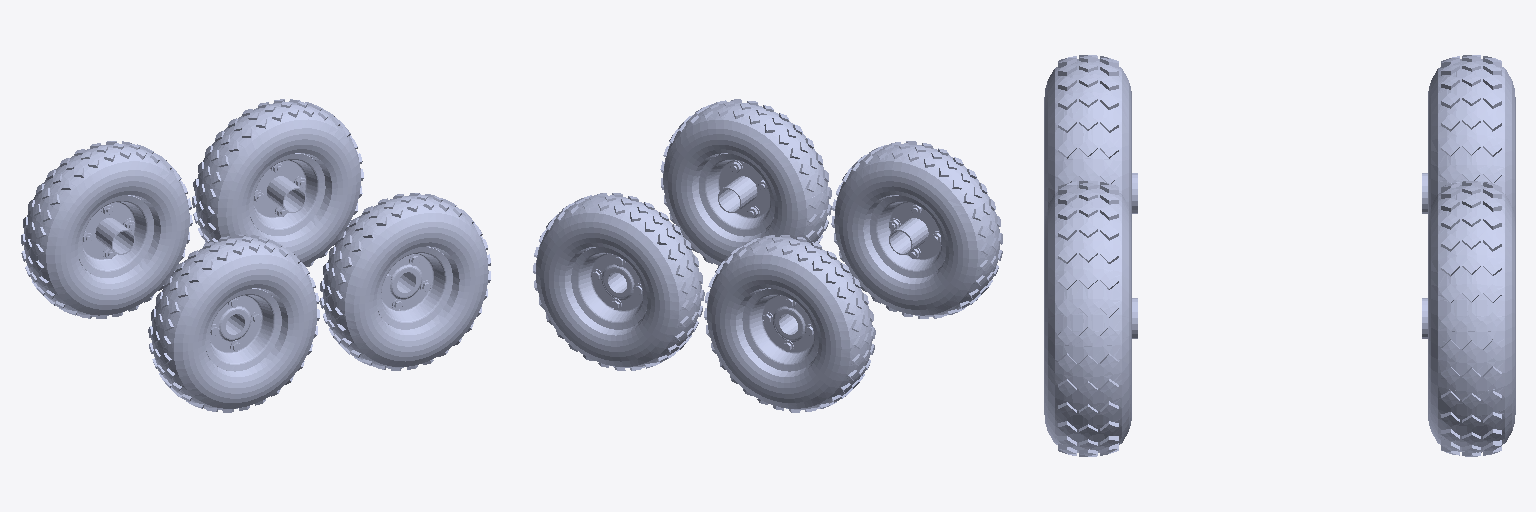
URDF robot description (new_robot_description):
<?xml version="1.0" encoding="utf-8"?>
<!-- This URDF was automatically created by SolidWorks to URDF Exporter! Originally created by [author] ([email redacted]) 
     Commit Version: 1.5.1-0-g916b5db  Build Version: 1.5.7152.31018
     For more information, please see http://wiki.ros.org/sw_urdf_exporter -->
<robot
  name="new_robot_description">
  <link
    name="base_link">
    <inertial>
      <origin
        xyz="-0.0362631630213368 -0.0184368132164093 0.0180391285843125"
        rpy="0 0 0" />
      <mass
        value="11.8935575217908" />
      <inertia
        ixx="0.16948570883081"
        ixy="0.00171944073324637"
        ixz="0.0110641871915267"
        iyy="0.407650272383018"
        iyz="-0.00058670872412833"
        izz="0.421654763423977" />
    </inertial>
    <visual>
      <origin
        xyz="0 0 0"
        rpy="0 0 0" />
      <geometry>
        <mesh
          filename="package://new_robot_description/meshes/base_link.STL" />
      </geometry>
      <material
        name="">
        <color
          rgba="0.752941176470588 0.752941176470588 0.752941176470588 1" />
      </material>
    </visual>
    <collision>
      <origin
        xyz="0 0 0"
        rpy="0 0 0" />
      <geometry>
        <mesh
          filename="package://new_robot_description/meshes/base_link.STL" />
      </geometry>
    </collision>
  </link>
  <link
    name="FR">
    <inertial>
      <origin
        xyz="1.7499E-08 -9.006E-09 -0.046913"
        rpy="0 0 0" />
      <mass
        value="4" />
      <inertia
        ixx="0.0044232"
        ixy="-3.0571E-11"
        ixz="3.8718E-11"
        iyy="0.0044232"
        iyz="-9.9281E-10"
        izz="0.0077374" />
    </inertial>
    <visual>
      <origin
        xyz="0 0 0"
        rpy="0 0 0" />
      <geometry>
        <mesh
          filename="package://new_robot_description/meshes/FR.STL" />
      </geometry>
      <material
        name="">
        <color
          rgba="0.79216 0.81961 0.93333 1" />
      </material>
    </visual>
    <collision>
      <origin
        xyz="0 0 0"
        rpy="0 0 0" />
      <geometry>
        <mesh
          filename="package://new_robot_description/meshes/FR.STL" />
      </geometry>
    </collision>
  </link>
  <joint
    name="joint_FR"
    type="continuous">
    <origin
      xyz="0.12696 -0.15232 -0.055677"
      rpy="1.5708 -0.41309 3.1416" />
    <parent
      link="base_link" />
    <child
      link="FR" />
    <axis
      xyz="0 0 1" />
  </joint>
  <link
    name="FL">
    <inertial>
      <origin
        xyz="1.7499E-08 -9.006E-09 -0.046913"
        rpy="0 0 0" />
      <mass
        value="4" />
      <inertia
        ixx="0.0044232"
        ixy="-3.0571E-11"
        ixz="3.8718E-11"
        iyy="0.0044232"
        iyz="-9.928E-10"
        izz="0.0077374" />
    </inertial>
    <visual>
      <origin
        xyz="0 0 0"
        rpy="0 0 0" />
      <geometry>
        <mesh
          filename="package://new_robot_description/meshes/FL.STL" />
      </geometry>
      <material
        name="">
        <color
          rgba="0.79216 0.81961 0.93333 1" />
      </material>
    </visual>
    <collision>
      <origin
        xyz="0 0 0"
        rpy="0 0 0" />
      <geometry>
        <mesh
          filename="package://new_robot_description/meshes/FL.STL" />
      </geometry>
    </collision>
  </link>
  <joint
    name="joint_FL"
    type="continuous">
    <origin
      xyz="0.12696 0.11424 -0.055677"
      rpy="1.5708 -0.090814 0" />
    <parent
      link="base_link" />
    <child
      link="FL" />
    <axis
      xyz="0 0 1" />
  </joint>
  <link
    name="BR">
    <inertial>
      <origin
        xyz="1.7499E-08 -9.006E-09 -0.046913"
        rpy="0 0 0" />
      <mass
        value="4" />
      <inertia
        ixx="0.0044232"
        ixy="-3.0571E-11"
        ixz="3.8718E-11"
        iyy="0.0044232"
        iyz="-9.928E-10"
        izz="0.0077374" />
    </inertial>
    <visual>
      <origin
        xyz="0 0 0"
        rpy="0 0 0" />
      <geometry>
        <mesh
          filename="package://new_robot_description/meshes/BR.STL" />
      </geometry>
      <material
        name="">
        <color
          rgba="0.79216 0.81961 0.93333 1" />
      </material>
    </visual>
    <collision>
      <origin
        xyz="0 0 0"
        rpy="0 0 0" />
      <geometry>
        <mesh
          filename="package://new_robot_description/meshes/BR.STL" />
      </geometry>
    </collision>
  </link>
  <joint
    name="joint_BR"
    type="continuous">
    <origin
      xyz="-0.15304 -0.15232 -0.055677"
      rpy="1.5708 0.052512 -3.1416" />
    <parent
      link="base_link" />
    <child
      link="BR" />
    <axis
      xyz="0 0 1" />
  </joint>
  <link
    name="BL">
    <inertial>
      <origin
        xyz="1.7499E-08 -9.006E-09 -0.046913"
        rpy="0 0 0" />
      <mass
        value="4" />
      <inertia
        ixx="0.0044232"
        ixy="-3.0571E-11"
        ixz="3.8718E-11"
        iyy="0.0044232"
        iyz="-9.928E-10"
        izz="0.0077374" />
    </inertial>
    <visual>
      <origin
        xyz="0 0 0"
        rpy="0 0 0" />
      <geometry>
        <mesh
          filename="package://new_robot_description/meshes/BL.STL" />
      </geometry>
      <material
        name="">
        <color
          rgba="0.79216 0.81961 0.93333 1" />
      </material>
    </visual>
    <collision>
      <origin
        xyz="0 0 0"
        rpy="0 0 0" />
      <geometry>
        <mesh
          filename="package://new_robot_description/meshes/BL.STL" />
      </geometry>
    </collision>
  </link>
  <joint
    name="joint_BL"
    type="continuous">
    <origin
      xyz="-0.15304 0.11424 -0.055677"
      rpy="1.5708 -0.042013 0" />
    <parent
      link="base_link" />
    <child
      link="BL" />
    <axis
      xyz="0 0 1" />
  </joint>
</robot>

--- Facts derived from the render (not from the file) ---
Views: 3 orthographic renders of the robot side by side, from view 1: azimuth 30°, elevation 25°; view 2: azimuth 150°, elevation 25°; view 3: azimuth 270°, elevation 25°.
Robot: new_robot_description — 5 links, 4 joints (4 continuous); root link base_link; default pose: every joint at zero.
Visible links, largest first — view 1: BR, FR, BL, FL; view 2: BL, FL, BR, FR; view 3: FR, FL, BL, BR.
Link boxes in pixels (left/top/right/bottom): BR: left=148, top=234, right=319, bottom=412; FR: left=320, top=193, right=490, bottom=370; BL: left=21, top=141, right=192, bottom=318; FL: left=192, top=99, right=363, bottom=266; BL: left=704, top=235, right=875, bottom=412; FL: left=533, top=193, right=704, bottom=370; BR: left=831, top=141, right=1002, bottom=318; FR: left=660, top=99, right=831, bottom=266; FR: left=1044, top=181, right=1137, bottom=456; FL: left=1422, top=181, right=1515, bottom=456; BL: left=1422, top=55, right=1515, bottom=221; BR: left=1044, top=55, right=1137, bottom=221.
Size in the robot's own frame: 0.5403 by 0.4436 by 0.2603 metres.
Meshes: 5 distinct files referenced, 4 mesh visuals loaded (4 binary STL); not drawn: 1 (reference not matched to a file when rendering).